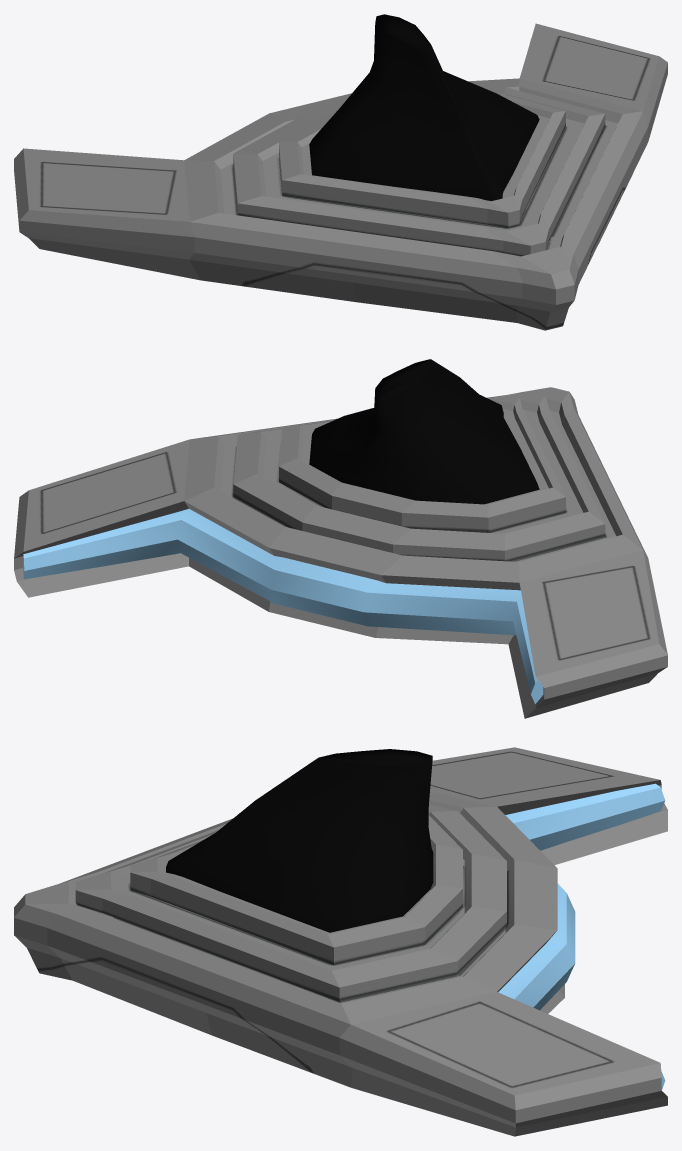
The model's file is scaledHyperShip.fbx.
The picture shows the model from 3 angles, top to bottom: view 1: azimuth 30°, elevation 25°; view 2: azimuth 150°, elevation 25°; view 3: azimuth 270°, elevation 25°; orthographic projection. The views are drawn at different scales.
Visible parts, largest first — view 1: shipMesh6; view 2: shipMesh6; view 3: shipMesh6.
Boxes of the visible parts, x1,y1,x2,y2 form: shipMesh6: (14, 14, 667, 330); shipMesh6: (14, 359, 667, 718); shipMesh6: (14, 747, 667, 1136).
Bounding box in the file's own units: 19.09 × 5.23 × 14.73.
3 materials, 3 textured.
